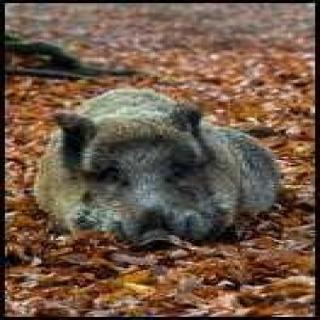Pig: (46, 76, 295, 243)
